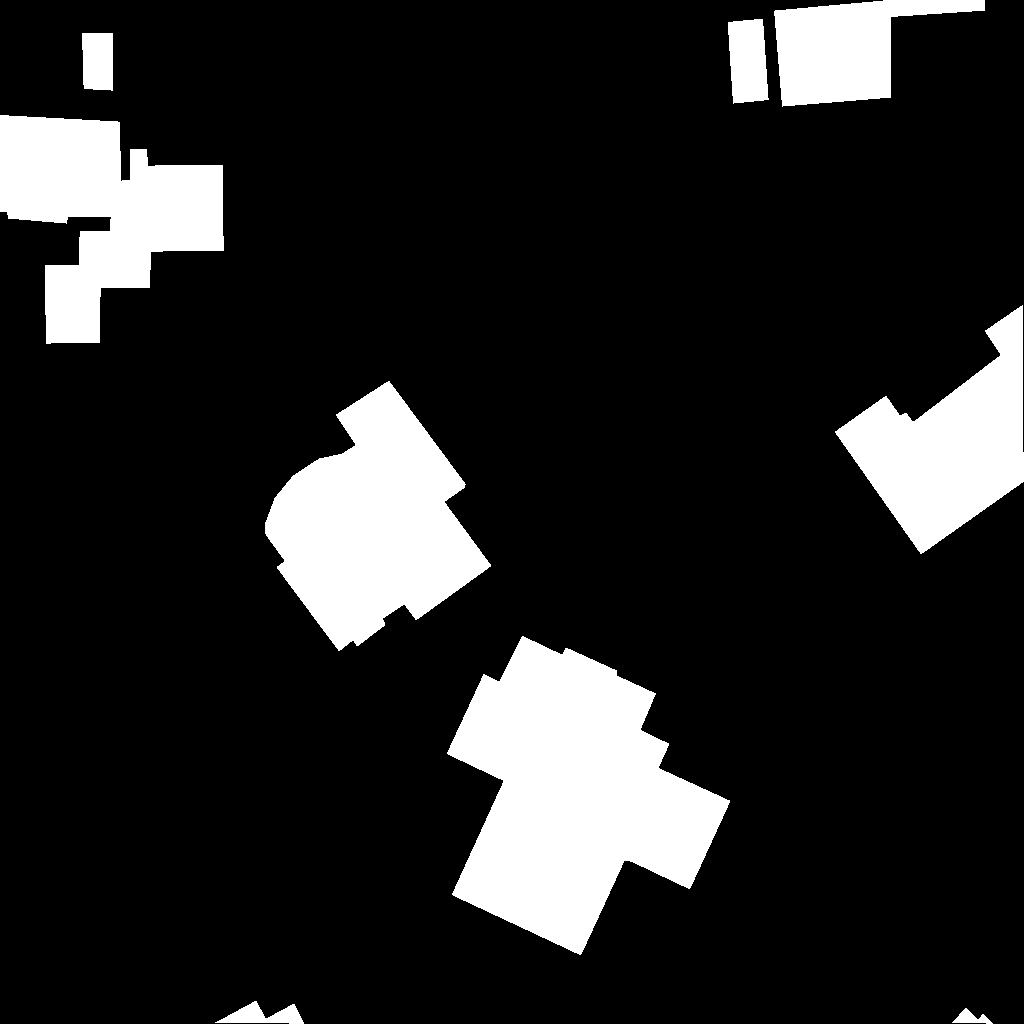building: (447, 636, 731, 956), (265, 381, 492, 652), (0, 115, 224, 344), (835, 305, 1024, 555), (774, 0, 986, 107), (728, 19, 769, 104), (215, 1001, 305, 1024), (82, 33, 114, 91), (952, 1008, 994, 1024)
